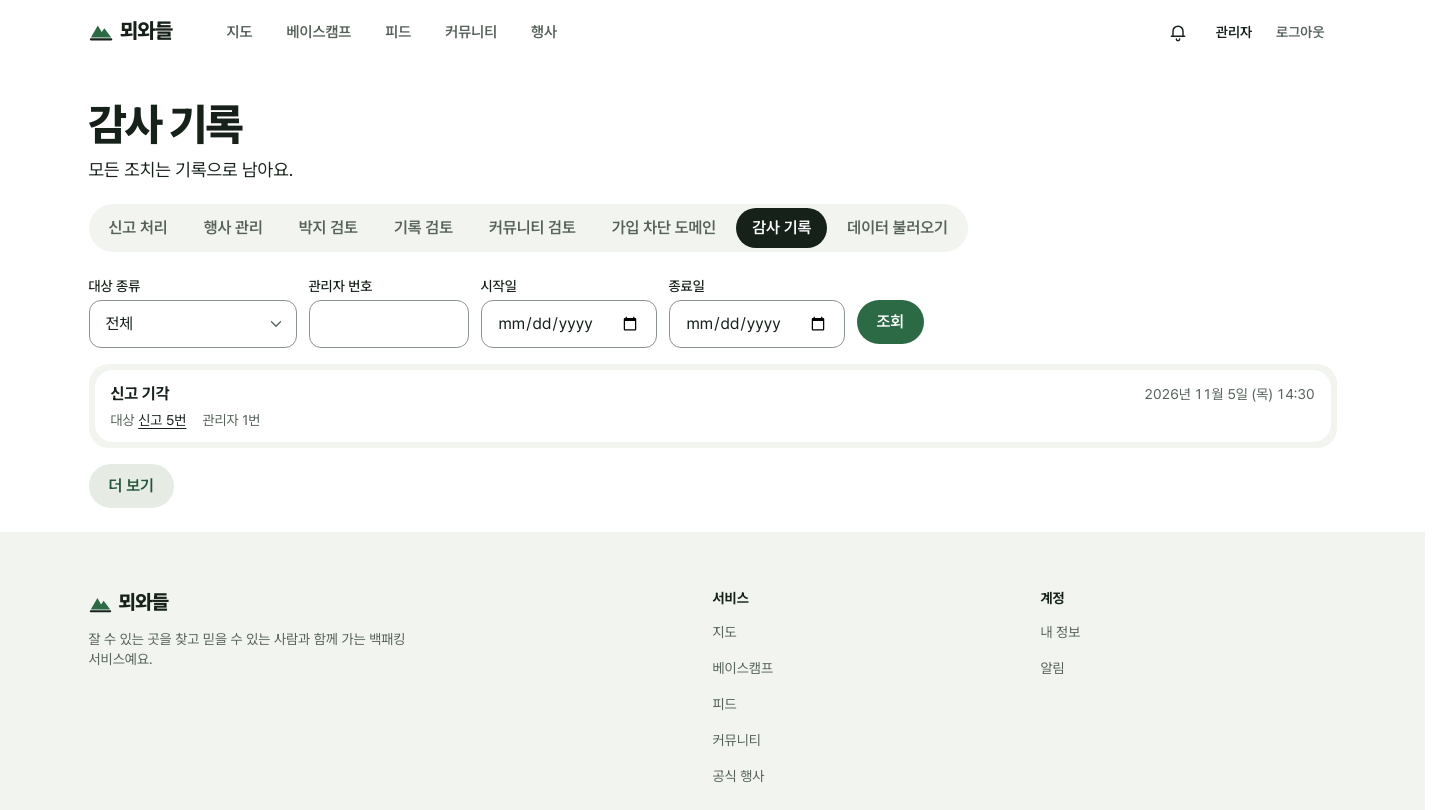
관리자 감사 기록 화면 › 다음 쪽을 불러오지 못하면 다시 시도 버튼은 더 보기 하나만 보인다
The width and height of the screenshot is (1440, 810).
Click the button "더 보기" at (131, 486), box [88,464,174,508]
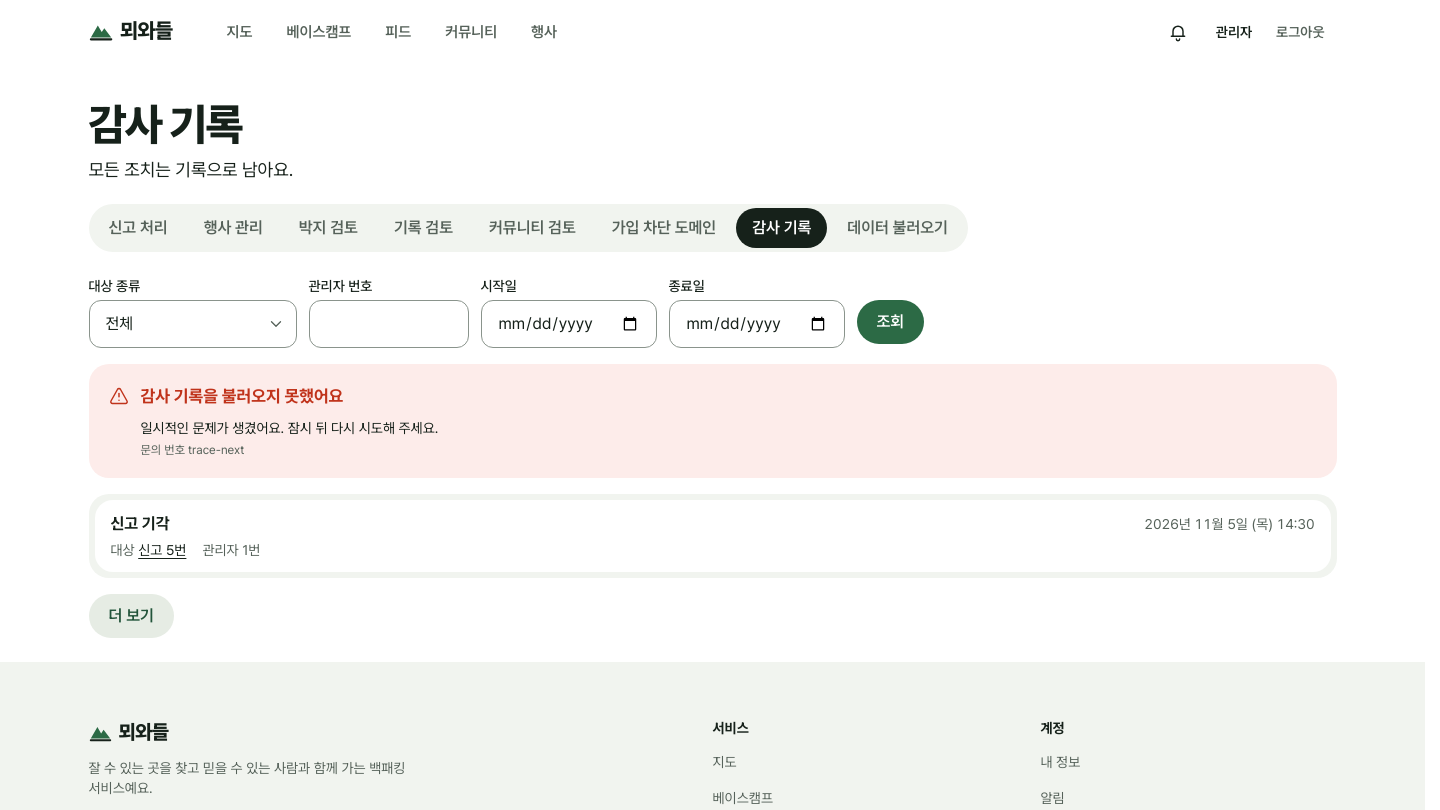
Check: the button "더 보기" is shown, box [88,594,174,638]
Check: the message "감사 기록을 불러오지 못했어요 일시적인 문제가 생겼어요. 잠시 뒤 다시 시도해 주세요. 문의 번호 trace-next" is shown, box [88,364,1336,478]
